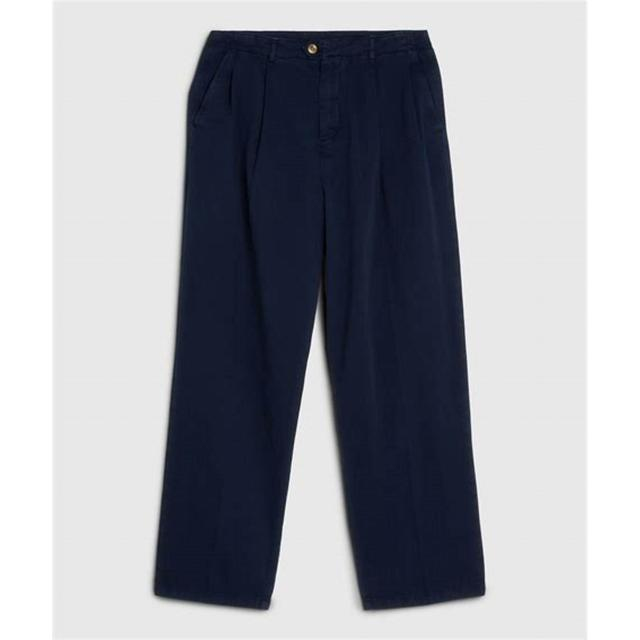long-pants: (153, 25, 489, 613)
